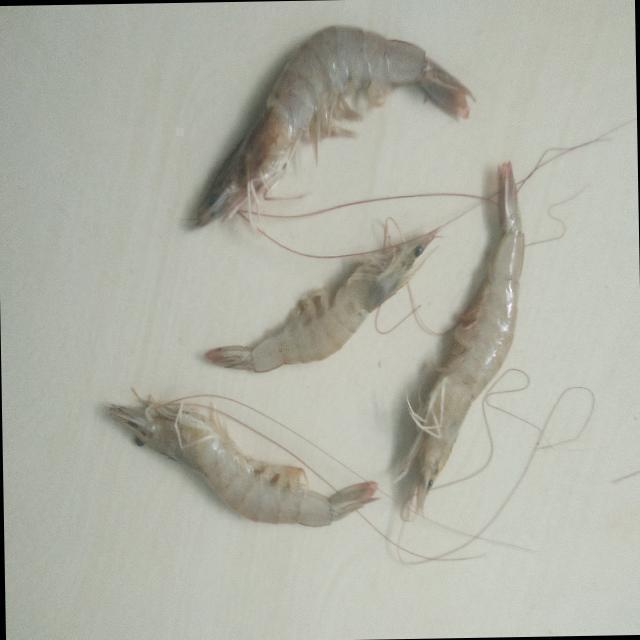shrimp: (188, 26, 472, 228), (398, 161, 525, 520), (109, 404, 377, 527), (206, 231, 436, 372)
